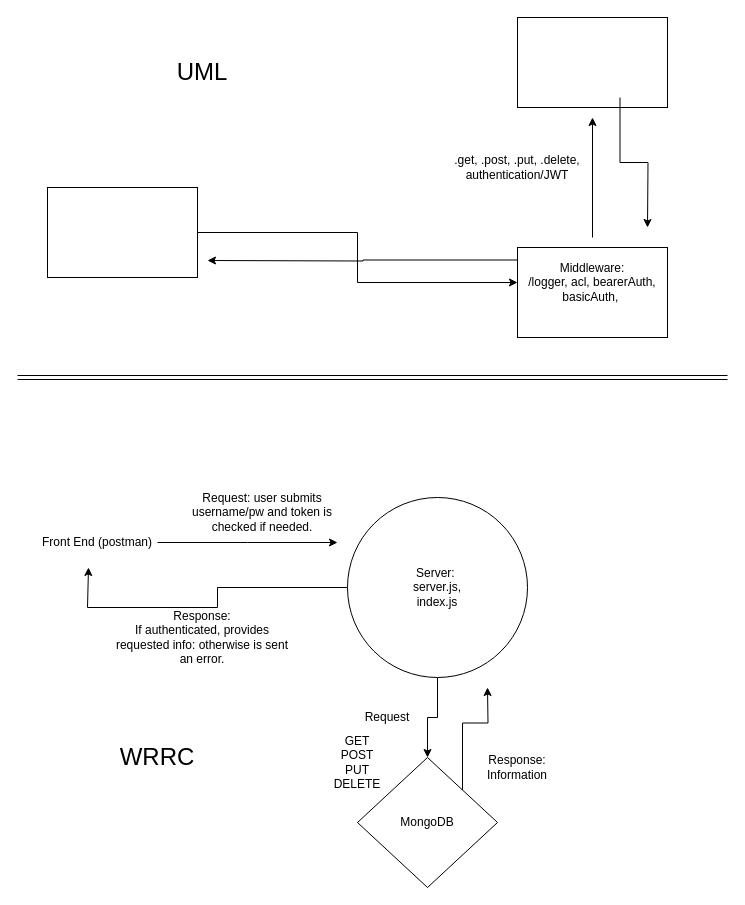
The diagram is 745 pixels wide and 905 high, and some of its shapes have lost their labels. Here are the shapes that lost their labels. From the top down, the centre of each, then its label:
At point 592,62: "Database: MongoBD".
At point 122,232: "Express Server: server.js, index.js".
